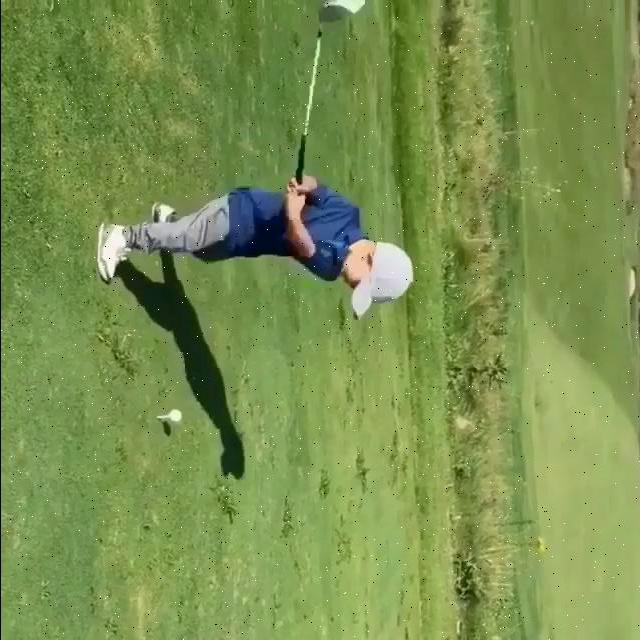golf ball: (168, 409, 181, 422)
golf club-handle: (292, 0, 365, 184)
golf club-head: (318, 0, 365, 23)
